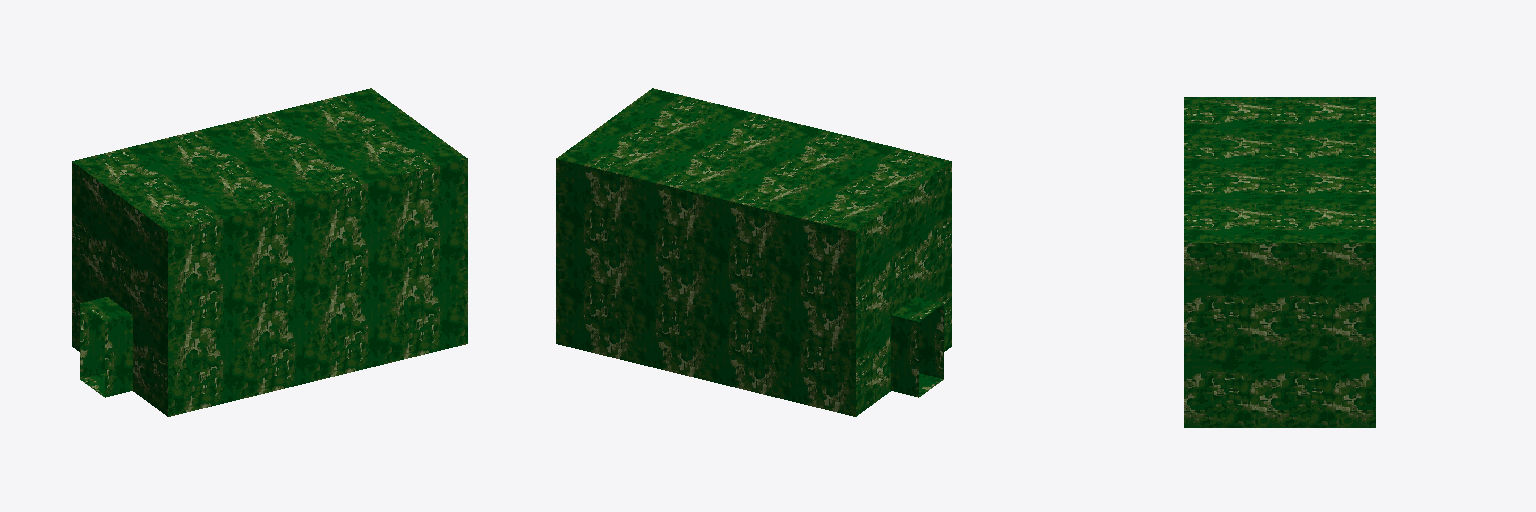
3 renders of one model, left to right at view 1: azimuth 30°, elevation 25°; view 2: azimuth 150°, elevation 25°; view 3: azimuth 270°, elevation 25°, orthographic.
Parts seen in each view (by area): view 1: mesh.007; view 2: mesh.007; view 3: mesh.007.
Boxes of the visible parts, x1=… form: mesh.007: x1=72, y1=88, x2=467, y2=416; mesh.007: x1=556, y1=88, x2=951, y2=416; mesh.007: x1=1184, y1=97, x2=1375, y2=427.
Bounding box in the file's own units: 452 × 244 × 231.
2 materials, 2 textured.